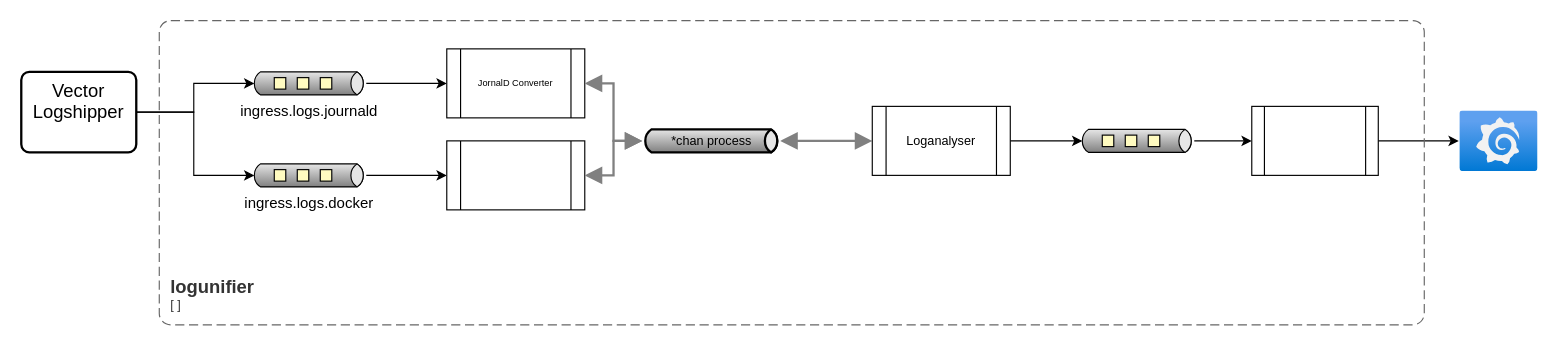
Image size: 1557x345. Some labels were removed from this diagram. Each missing label, with the centre of its shape:
"Docker Converter" belongs at point 515,175.
"egress.logs.ecs" belongs at point 1136,140.
"Lokishipper" belongs at point 1314,140.
